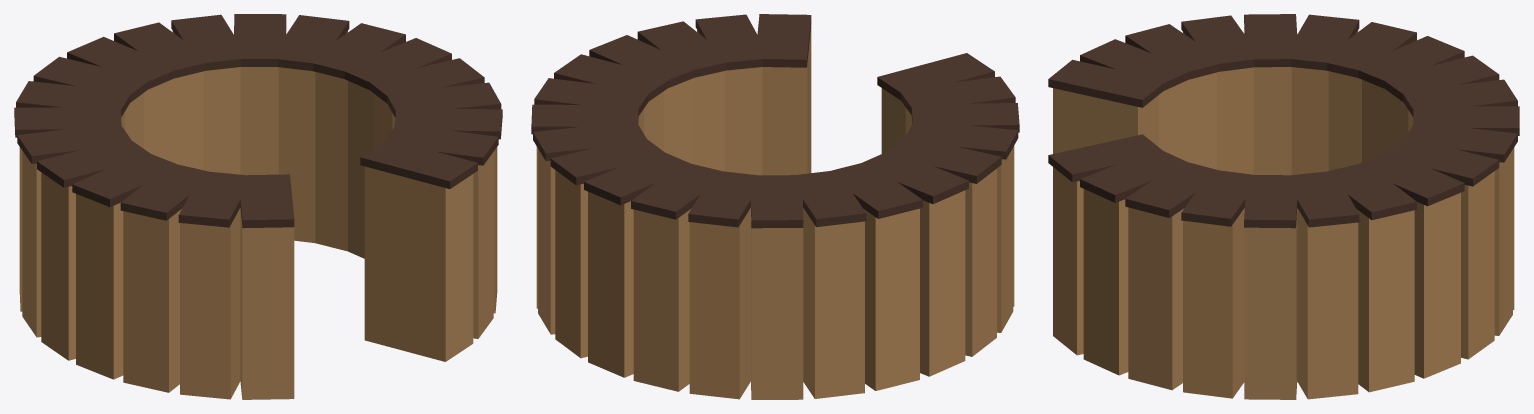
The picture shows the model from 3 angles, left to right: view 1: azimuth 30°, elevation 25°; view 2: azimuth 150°, elevation 25°; view 3: azimuth 270°, elevation 25°; orthographic projection.
Parts seen in each view (by area): view 1: isla_recepcion; view 2: isla_recepcion; view 3: isla_recepcion.
Part boxes in pixels (x1=…): isla_recepcion: x1=14, y1=14, x2=502, y2=399; isla_recepcion: x1=531, y1=14, x2=1019, y2=399; isla_recepcion: x1=1048, y1=14, x2=1519, y2=399.
Bounding box in the file's own units: 2.8 × 2.7 × 1.15.
